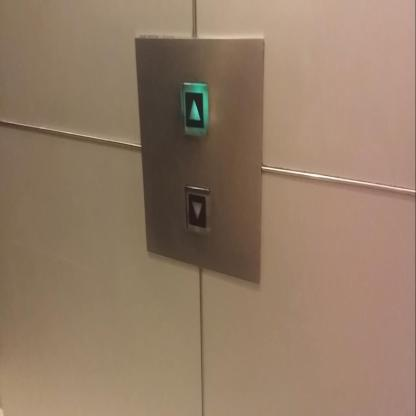down: (184, 183, 212, 238)
up: (180, 81, 210, 139)
